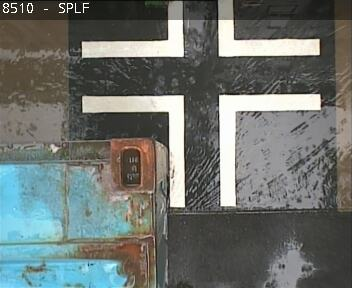groundmarker_1: (82, 93, 320, 207), (82, 1, 320, 58)
